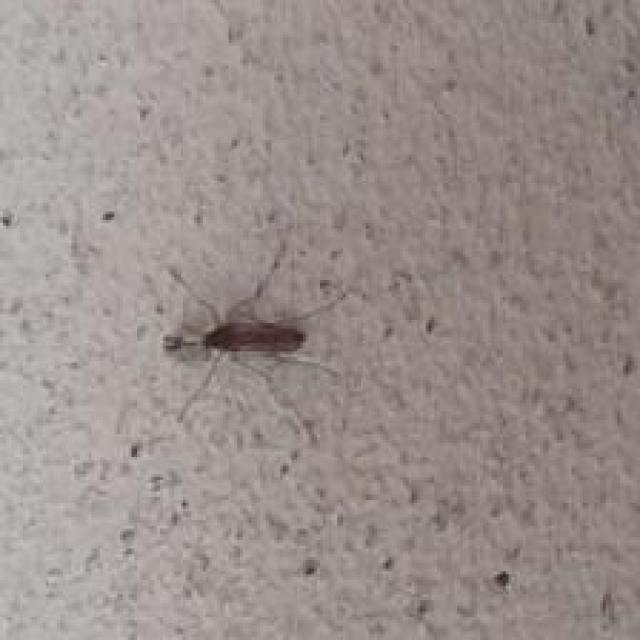Culex: (159, 242, 350, 444)
